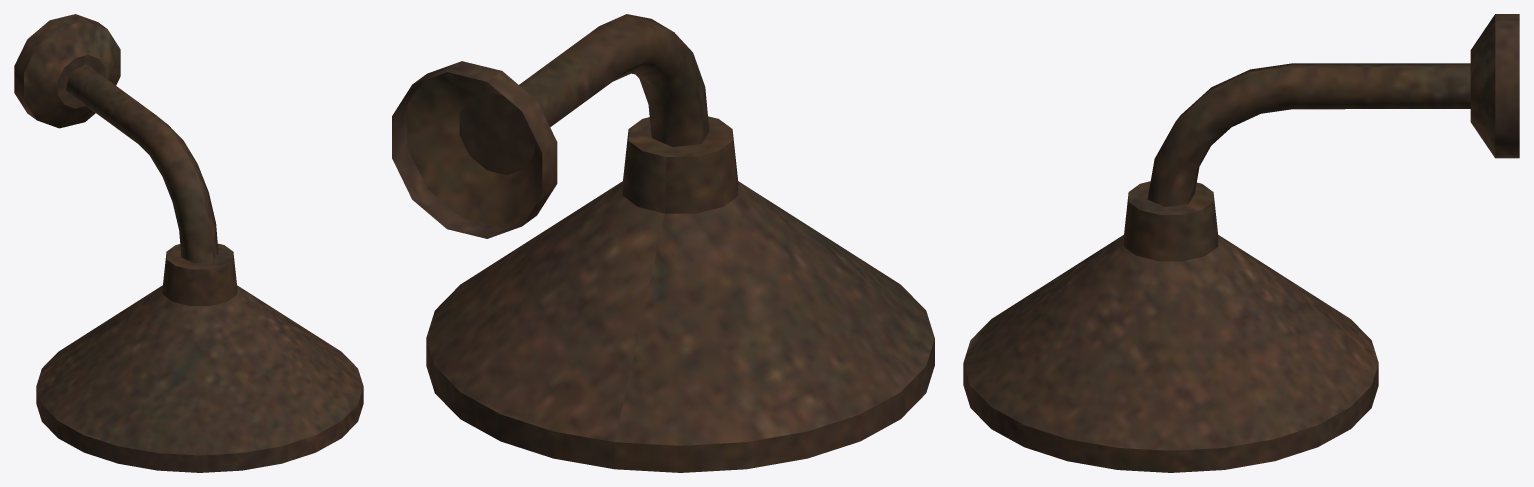
The model's file is lamp_mx_2_on.dae.
The picture shows the model from 3 angles, left to right: view 1: azimuth 30°, elevation 25°; view 2: azimuth 150°, elevation 25°; view 3: azimuth 270°, elevation 25°; orthographic projection. The views are drawn at different scales.
Visible parts, largest first — view 1: lamp_mx_2_on; view 2: lamp_mx_2_on; view 3: lamp_mx_2_on.
Part boxes in pixels (x1,y1,x2,y2): lamp_mx_2_on: [14, 14, 363, 472]; lamp_mx_2_on: [392, 14, 934, 472]; lamp_mx_2_on: [963, 14, 1519, 472].
Bounding box in the file's own units: 0.357 × 0.478 × 0.3682.
2 materials, 2 textured.
